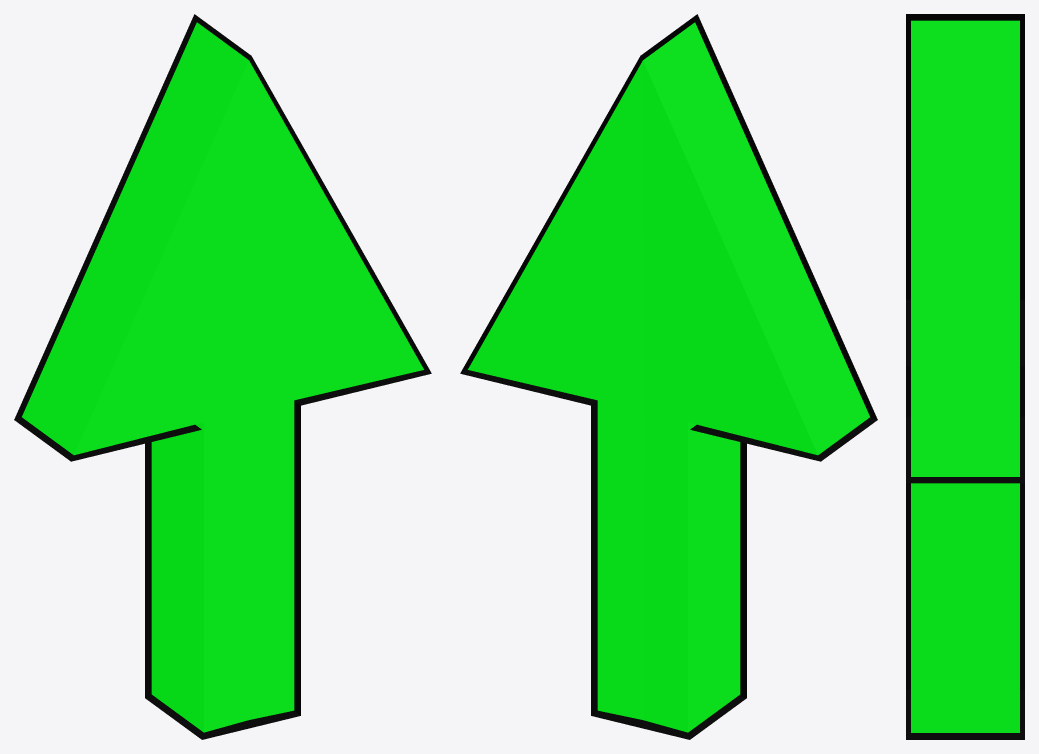
The model's file is Arrow.fbx.
The picture shows the model from 3 angles, left to right: view 1: azimuth 30°, elevation 25°; view 2: azimuth 150°, elevation 25°; view 3: azimuth 270°, elevation 25°; orthographic projection. The views are drawn at different scales.
Parts seen in each view (by area): view 1: Cube; view 2: Cube; view 3: Cube.
Part boxes in pixels (left/top/right/bottom): Cube: left=14, top=14, right=431, bottom=739; Cube: left=460, top=14, right=877, bottom=739; Cube: left=906, top=14, right=1024, bottom=739.
Bounding box in the file's own units: 730 × 1300 × 200.
